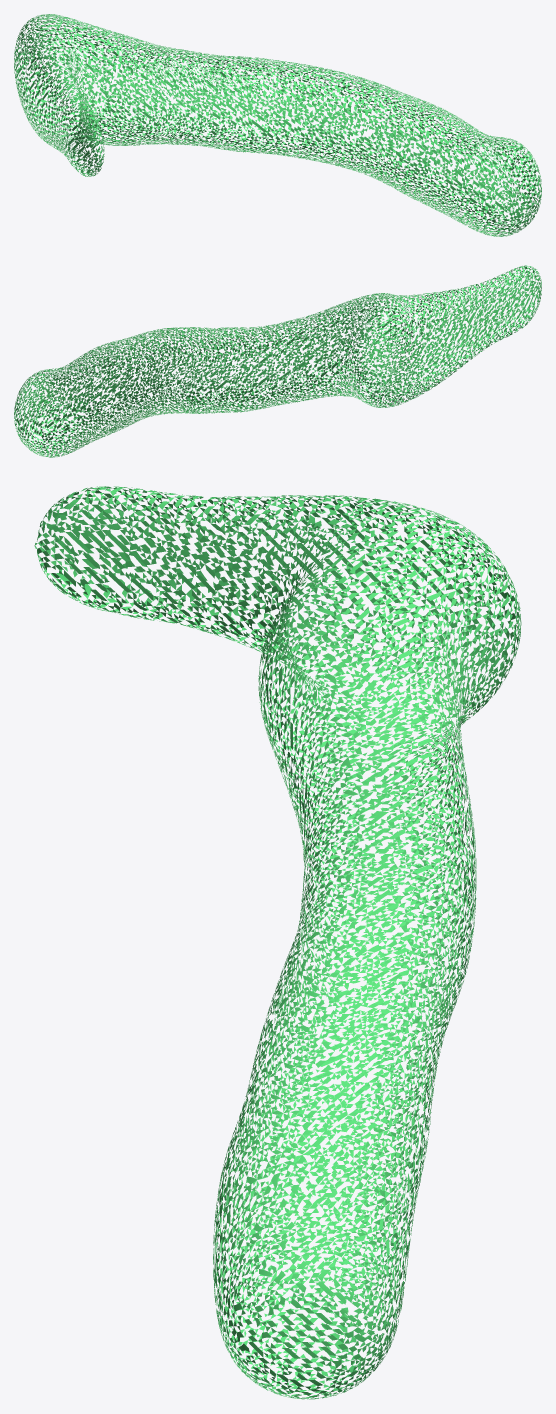
File: morph_020.glb
3 renders of one model, top to bottom at view 1: azimuth 30°, elevation 25°; view 2: azimuth 150°, elevation 25°; view 3: azimuth 270°, elevation 25°, orthographic. The views are drawn at different scales.
Bounding box in the file's own units: 122 × 66.76 × 56.54.
